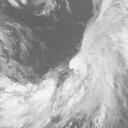cyclone: (28, 37, 86, 89)
